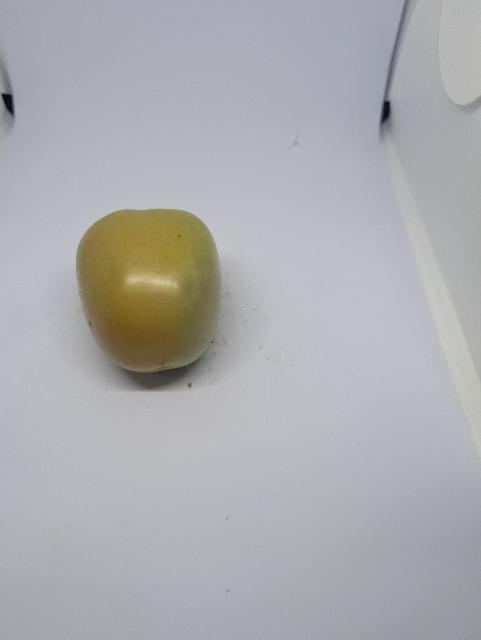breaker: (72, 202, 226, 390)
